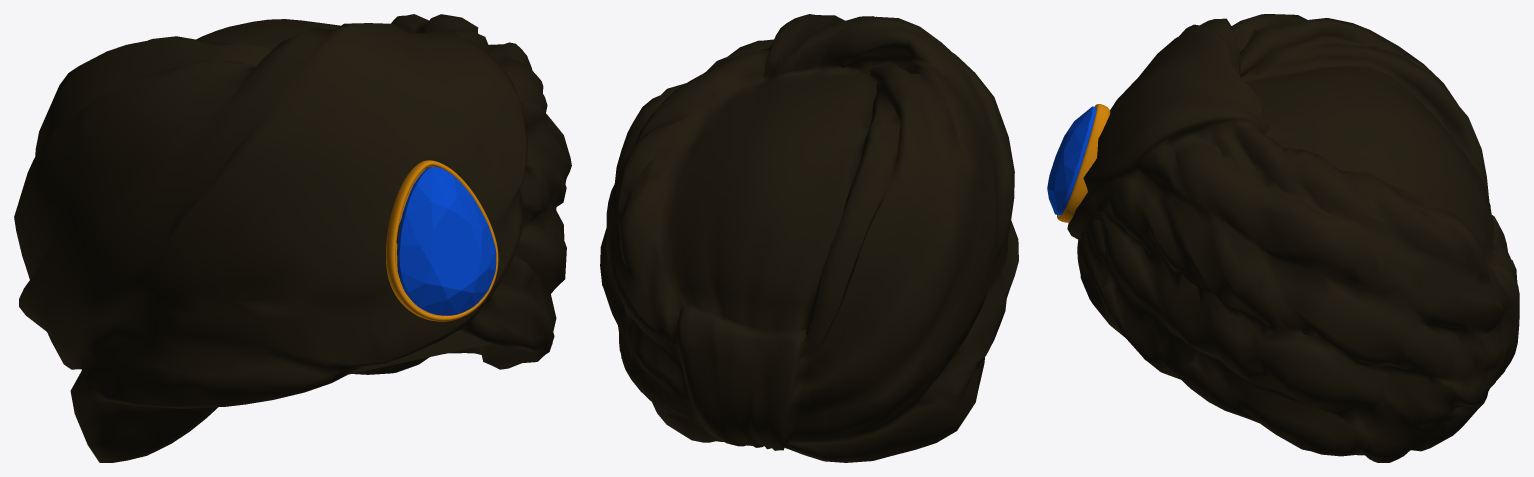
The model's file is kavuk_merged.fbx.
The picture shows the model from 3 angles, left to right: view 1: azimuth 30°, elevation 25°; view 2: azimuth 150°, elevation 25°; view 3: azimuth 270°, elevation 25°; orthographic projection. The views are drawn at different scales.
Visible parts, largest first — view 1: kavuk_merged; view 2: kavuk_merged; view 3: kavuk_merged.
Boxes of the visible parts, x1,y1,x2,y2 form: kavuk_merged: [14, 14, 571, 462]; kavuk_merged: [600, 14, 1018, 462]; kavuk_merged: [1047, 14, 1519, 462].
Bounding box in the file's own units: 32.31 × 35.87 × 31.09.
